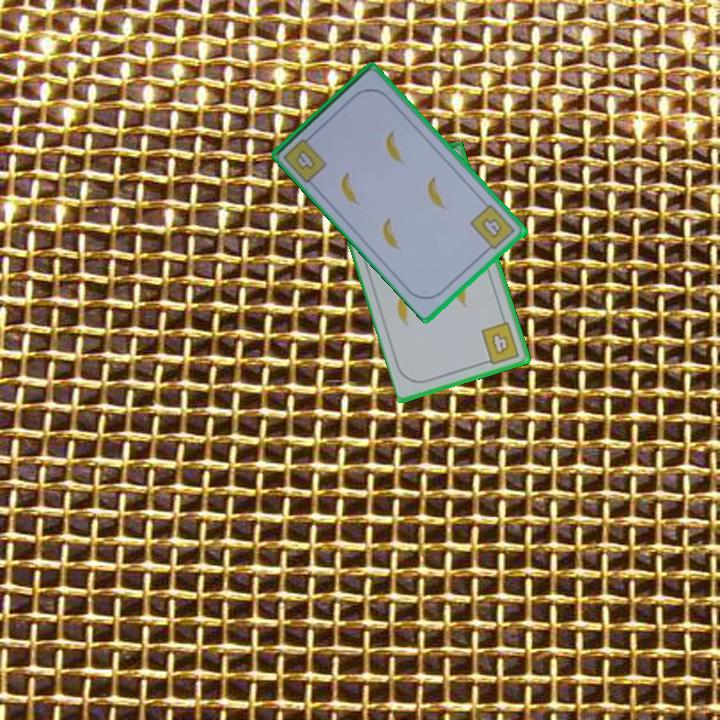4b: (467, 201, 518, 255), (478, 318, 522, 367), (292, 146, 319, 173)
